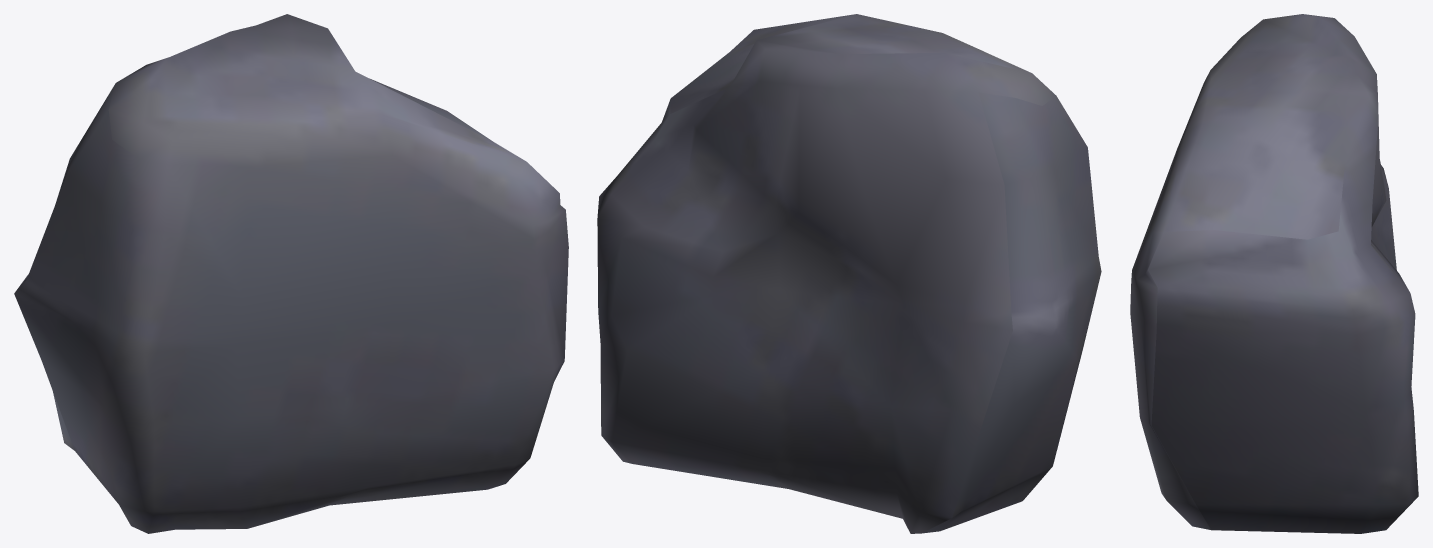
The model's file is DeepForestRock03.fbx.
The picture shows the model from 3 angles, left to right: view 1: azimuth 30°, elevation 25°; view 2: azimuth 150°, elevation 25°; view 3: azimuth 270°, elevation 25°; orthographic projection. The views are drawn at different scales.
Visible parts, largest first — view 1: ForestRock03; view 2: ForestRock03; view 3: ForestRock03.
Boxes of the visible parts, x1,y1,x2,y2 form: ForestRock03: (14,14,568,533); ForestRock03: (597,14,1101,533); ForestRock03: (1130,14,1418,533).
Bounding box in the file's own units: 1.72 × 1.61 × 1.07.
1 material, 1 textured.
